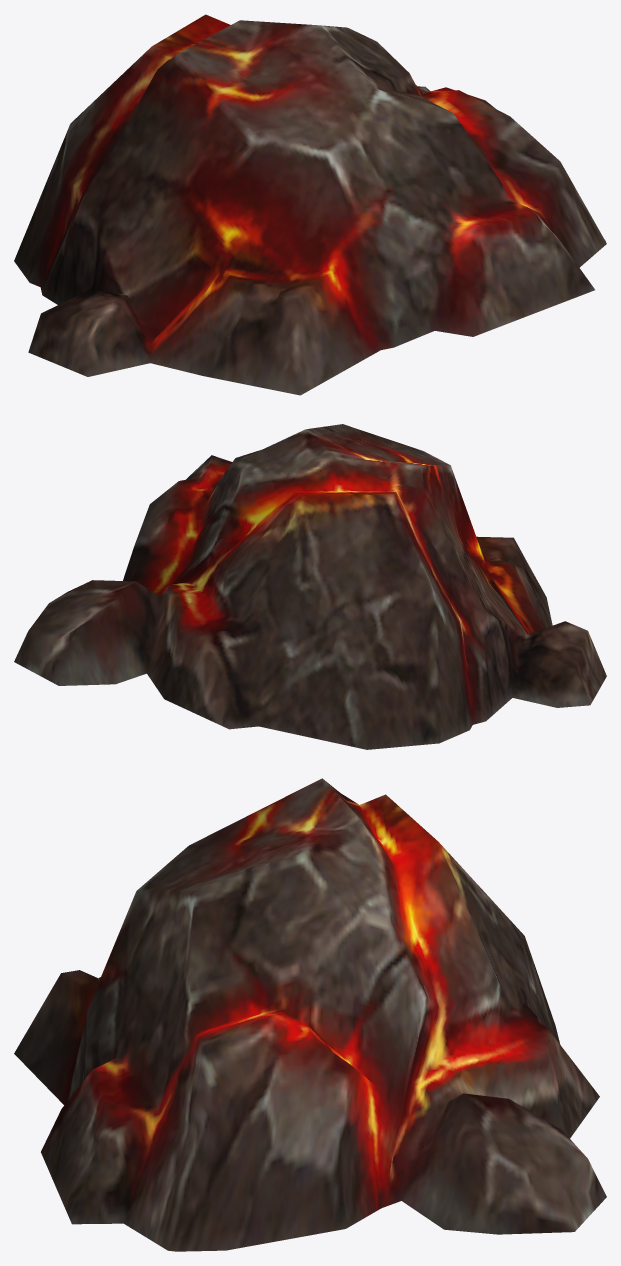
File: JJC04_01.FBX
The picture shows the model from 3 angles, top to bottom: view 1: azimuth 30°, elevation 25°; view 2: azimuth 150°, elevation 25°; view 3: azimuth 270°, elevation 25°; orthographic projection. The views are drawn at different scales.
Visible parts, largest first — view 1: JJC04_01; view 2: JJC04_01; view 3: JJC04_01.
Part boxes in pixels (left/top/right/bottom): JJC04_01: left=14, top=14, right=606, bottom=395; JJC04_01: left=14, top=424, right=606, bottom=749; JJC04_01: left=14, top=778, right=606, bottom=1251.
Bounding box in the file's own units: 25.4 × 11.09 × 21.
